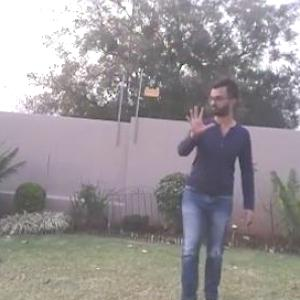follow_hand: (182, 101, 217, 138)
